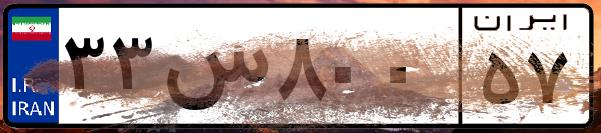0: (385, 28, 445, 110), (330, 28, 385, 110)
3: (57, 26, 110, 100), (110, 28, 158, 98)
5: (475, 38, 525, 113)
7: (525, 38, 570, 115)
8: (270, 28, 330, 110)
س: (158, 20, 270, 120)
